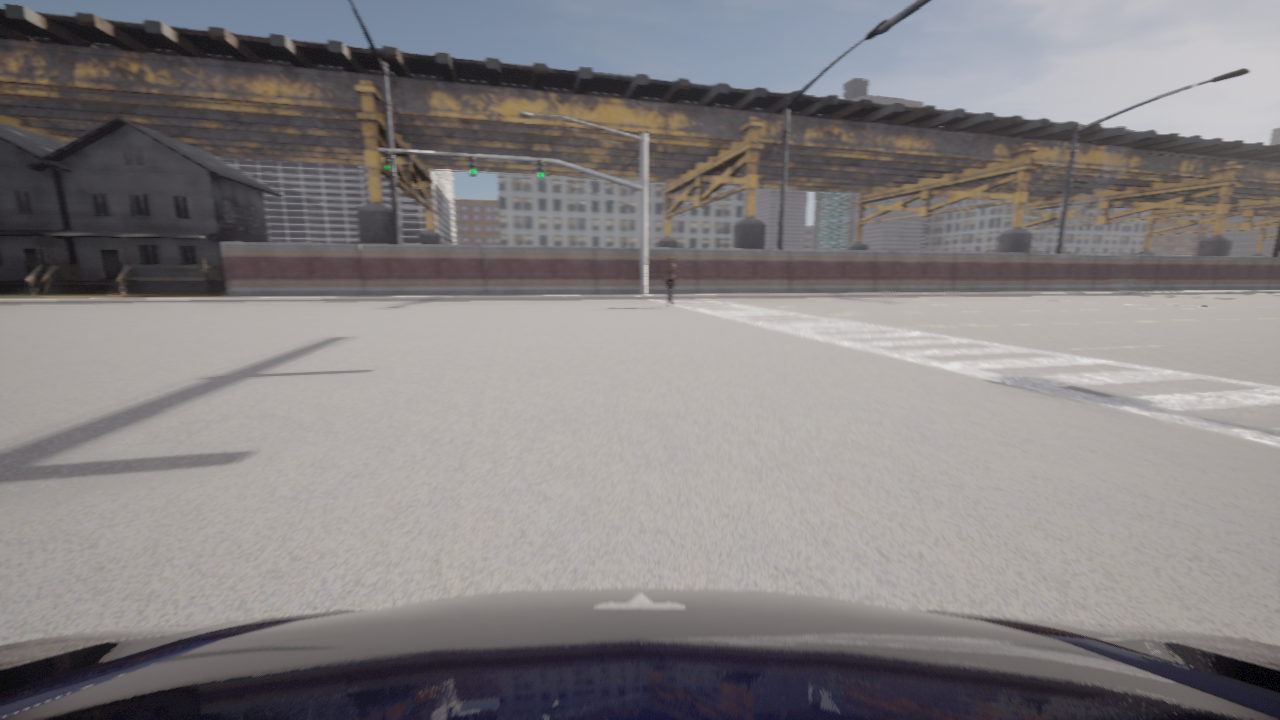cyclist: (0, 588, 1279, 719)
pedestrian: (662, 255, 681, 307)
